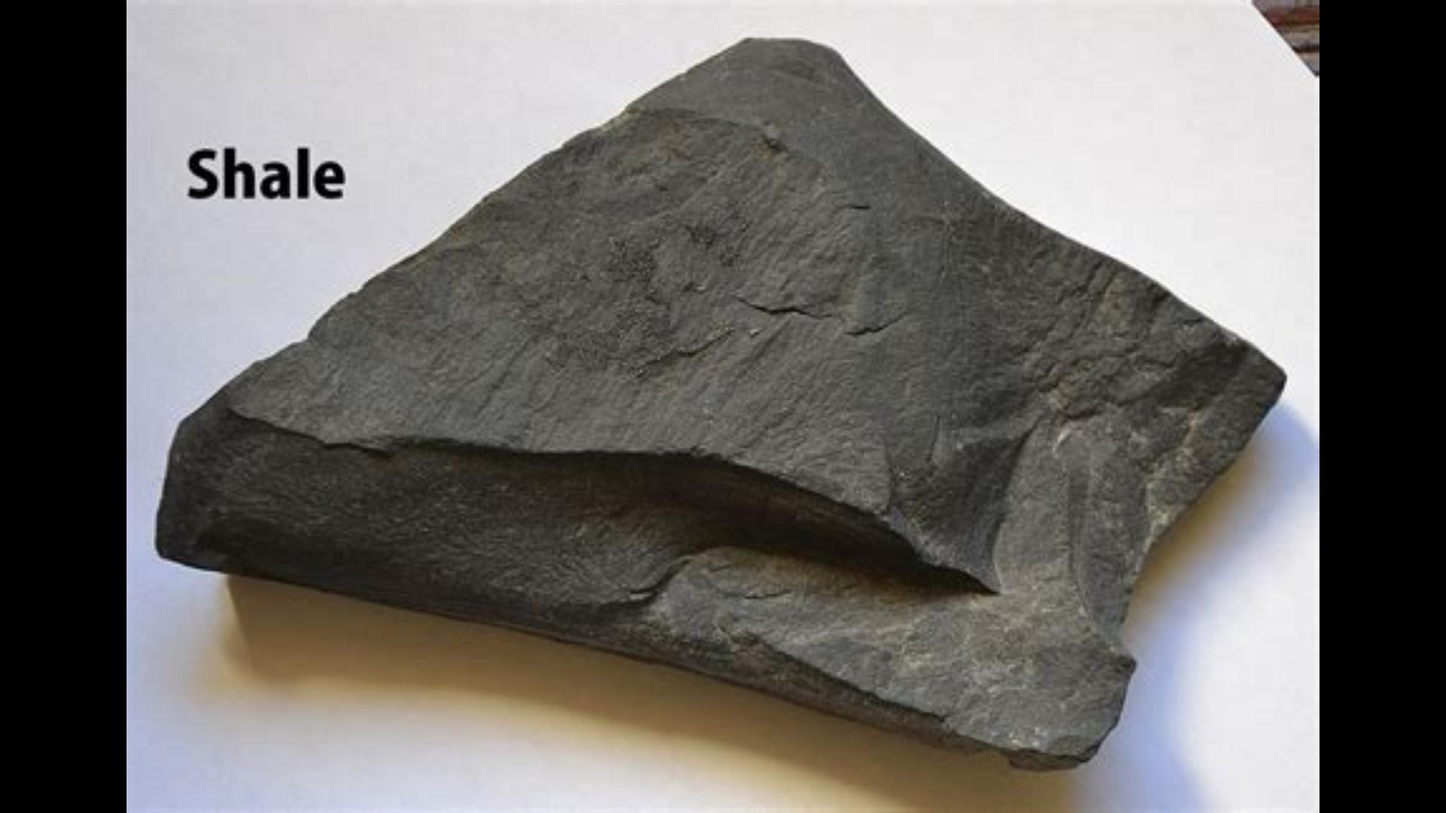rock: (167, 40, 1282, 755)
